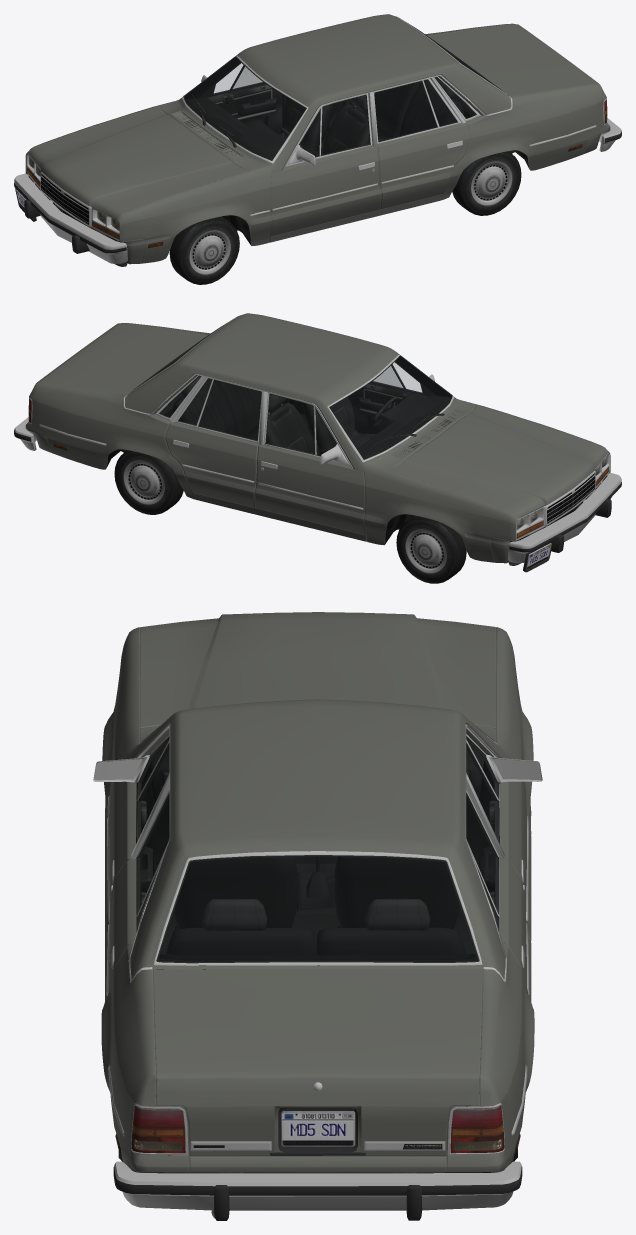
File: touring.glb
3 renders of one model, top to bottom at view 1: azimuth 30°, elevation 25°; view 2: azimuth 150°, elevation 25°; view 3: azimuth 270°, elevation 25°, orthographic. The views are drawn at different scales.
Parts seen in each view (by area): view 1: body_Bodycolor_0, Hood_Bodycolor_0, Door_FL_Bodycolor_0, Seats_GEN4DR_INTERIOR_0, trunk_door_Bodycolor_0, Wiendshield_UCB_GLASS_CLEAN_0, Door_RL_Bodycolor_0, Wheel_FL_RIMSTOCK_05_0, Wheel_RL_RIMSTOCK_05_0, Door_Glass_RL_UCB_GLASS_CLEAN_0, bumper_front_UCB_BOTTOM_0, Door_Glass_FL_UCB_GLASS_CLEAN_0 (+11 smaller); view 2: body_Bodycolor_0, Hood_Bodycolor_0, Seats_GEN4DR_INTERIOR_0, Door_FR_Bodycolor_0, trunk_door_Bodycolor_0, Wiendshield_UCB_GLASS_CLEAN_0, Door_RR_Bodycolor_0, Wheel_FR_RIMSTOCK_05_0, Wheel_RR_RIMSTOCK_05_0, Door_Glass_RR_UCB_GLASS_CLEAN_0, bumper_front_UCB_BOTTOM_0, Door_Glass_FR_UCB_GLASS_CLEAN_0 (+11 smaller); view 3: body_Bodycolor_0, trunk_door_Bodycolor_0, Hood_Bodycolor_0, Windows_rear_UCB_GLASS_CLEAN_0, Seats_GEN4DR_INTERIOR_0, bumper_rear_UCB_BOTTOM_0, Bodytrim_UCB_BOTTOM_0, interior_GEN4DR_INTERIOR_0, Trunk_door_inner_UCB_BOTTOM_0, Door_FR_Bodycolor_0, Numberplate_rear_Numberplates_0, Door_FL_Bodycolor_0 (+18 smaller).
Part boxes in pixels (x1,y1,x2,y2): body_Bodycolor_0: (25,14,610,264); Hood_Bodycolor_0: (28,106,248,218); Door_FL_Bodycolor_0: (270,145,381,236); Seats_GEN4DR_INTERIOR_0: (278,77,463,156); trunk_door_Bodycolor_0: (428,24,598,96); Wiendshield_UCB_GLASS_CLEAN_0: (184,57,305,159); Door_RL_Bodycolor_0: (377,123,470,208); Wheel_FL_RIMSTOCK_05_0: (169,216,239,284); Wheel_RL_RIMSTOCK_05_0: (452,151,521,215); Door_Glass_RL_UCB_GLASS_CLEAN_0: (374,80,457,141); bumper_front_UCB_BOTTOM_0: (14,173,127,263); Door_Glass_FL_UCB_GLASS_CLEAN_0: (300,95,370,155); body_Bodycolor_0: (25,313,610,563); Hood_Bodycolor_0: (388,405,607,517); Seats_GEN4DR_INTERIOR_0: (173,376,376,455); Door_FR_Bodycolor_0: (254,444,365,535); trunk_door_Bodycolor_0: (37,324,207,395); Wiendshield_UCB_GLASS_CLEAN_0: (330,356,451,458); Door_RR_Bodycolor_0: (165,422,258,507); Wheel_FR_RIMSTOCK_05_0: (396,515,466,583); Wheel_RR_RIMSTOCK_05_0: (114,450,183,514); Door_Glass_RR_UCB_GLASS_CLEAN_0: (178,379,261,439); bumper_front_UCB_BOTTOM_0: (508,473,621,572); Door_Glass_FR_UCB_GLASS_CLEAN_0: (266,394,335,454); body_Bodycolor_0: (101,627,534,1172); trunk_door_Bodycolor_0: (153,969,482,1156); Hood_Bodycolor_0: (139,612,496,728); Windows_rear_UCB_GLASS_CLEAN_0: (158,856,477,961); Seats_GEN4DR_INTERIOR_0: (166,857,465,969); bumper_rear_UCB_BOTTOM_0: (113,1161,522,1220); Bodytrim_UCB_BOTTOM_0: (108,723,527,1153); interior_GEN4DR_INTERIOR_0: (140,761,495,969); Trunk_door_inner_UCB_BOTTOM_0: (190,1082,445,1155); Door_FR_Bodycolor_0: (500,758,531,941); Numberplate_rear_Numberplates_0: (281,1111,355,1146); Door_FL_Bodycolor_0: (105,758,135,941).
Size of the model in its own units: 4.98 by 1.35 by 1.83.
8 materials, 7 textured.
